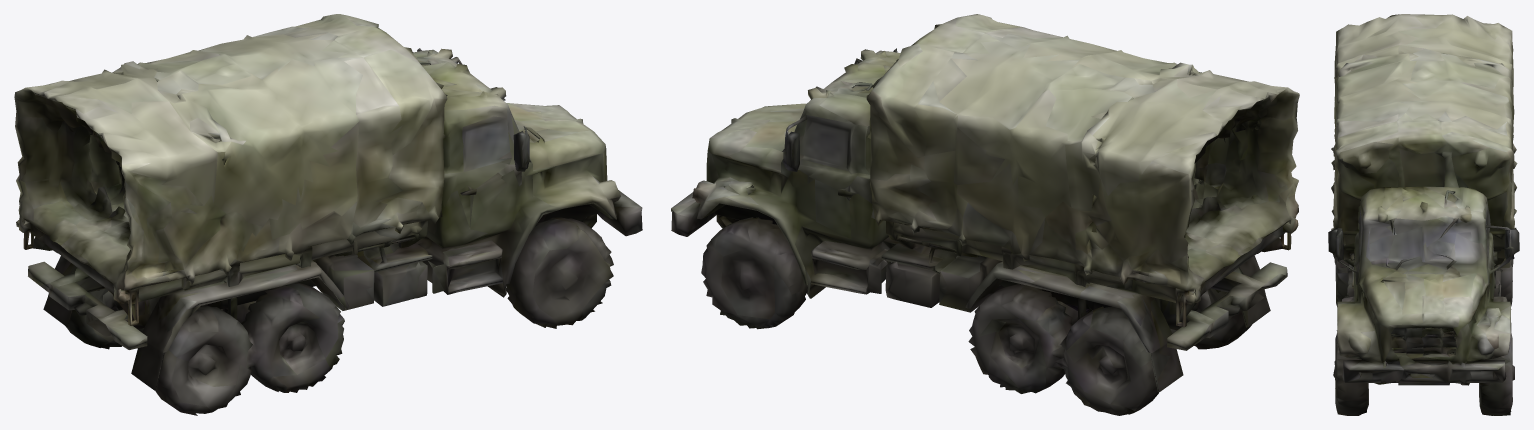
Rendered from mil_truck.glb.
3 views of the same model, side by side, from view 1: azimuth 30°, elevation 25°; view 2: azimuth 150°, elevation 25°; view 3: azimuth 270°, elevation 25° (orthographic). The views are drawn at different scales.
Parts seen in each view (by area): view 1: tripo_node_1cb08cd3-10b8-40d7-9467-bd53c137973b; view 2: tripo_node_1cb08cd3-10b8-40d7-9467-bd53c137973b; view 3: tripo_node_1cb08cd3-10b8-40d7-9467-bd53c137973b.
Part boxes in pixels (left/top/right/bottom): tripo_node_1cb08cd3-10b8-40d7-9467-bd53c137973b: left=14, top=14, right=642, bottom=415; tripo_node_1cb08cd3-10b8-40d7-9467-bd53c137973b: left=671, top=14, right=1299, bottom=415; tripo_node_1cb08cd3-10b8-40d7-9467-bd53c137973b: left=1328, top=14, right=1519, bottom=415.
Size of the model in its own units: 1 by 0.5188 by 0.3931.
Materials: 1 (1 with a texture image).
